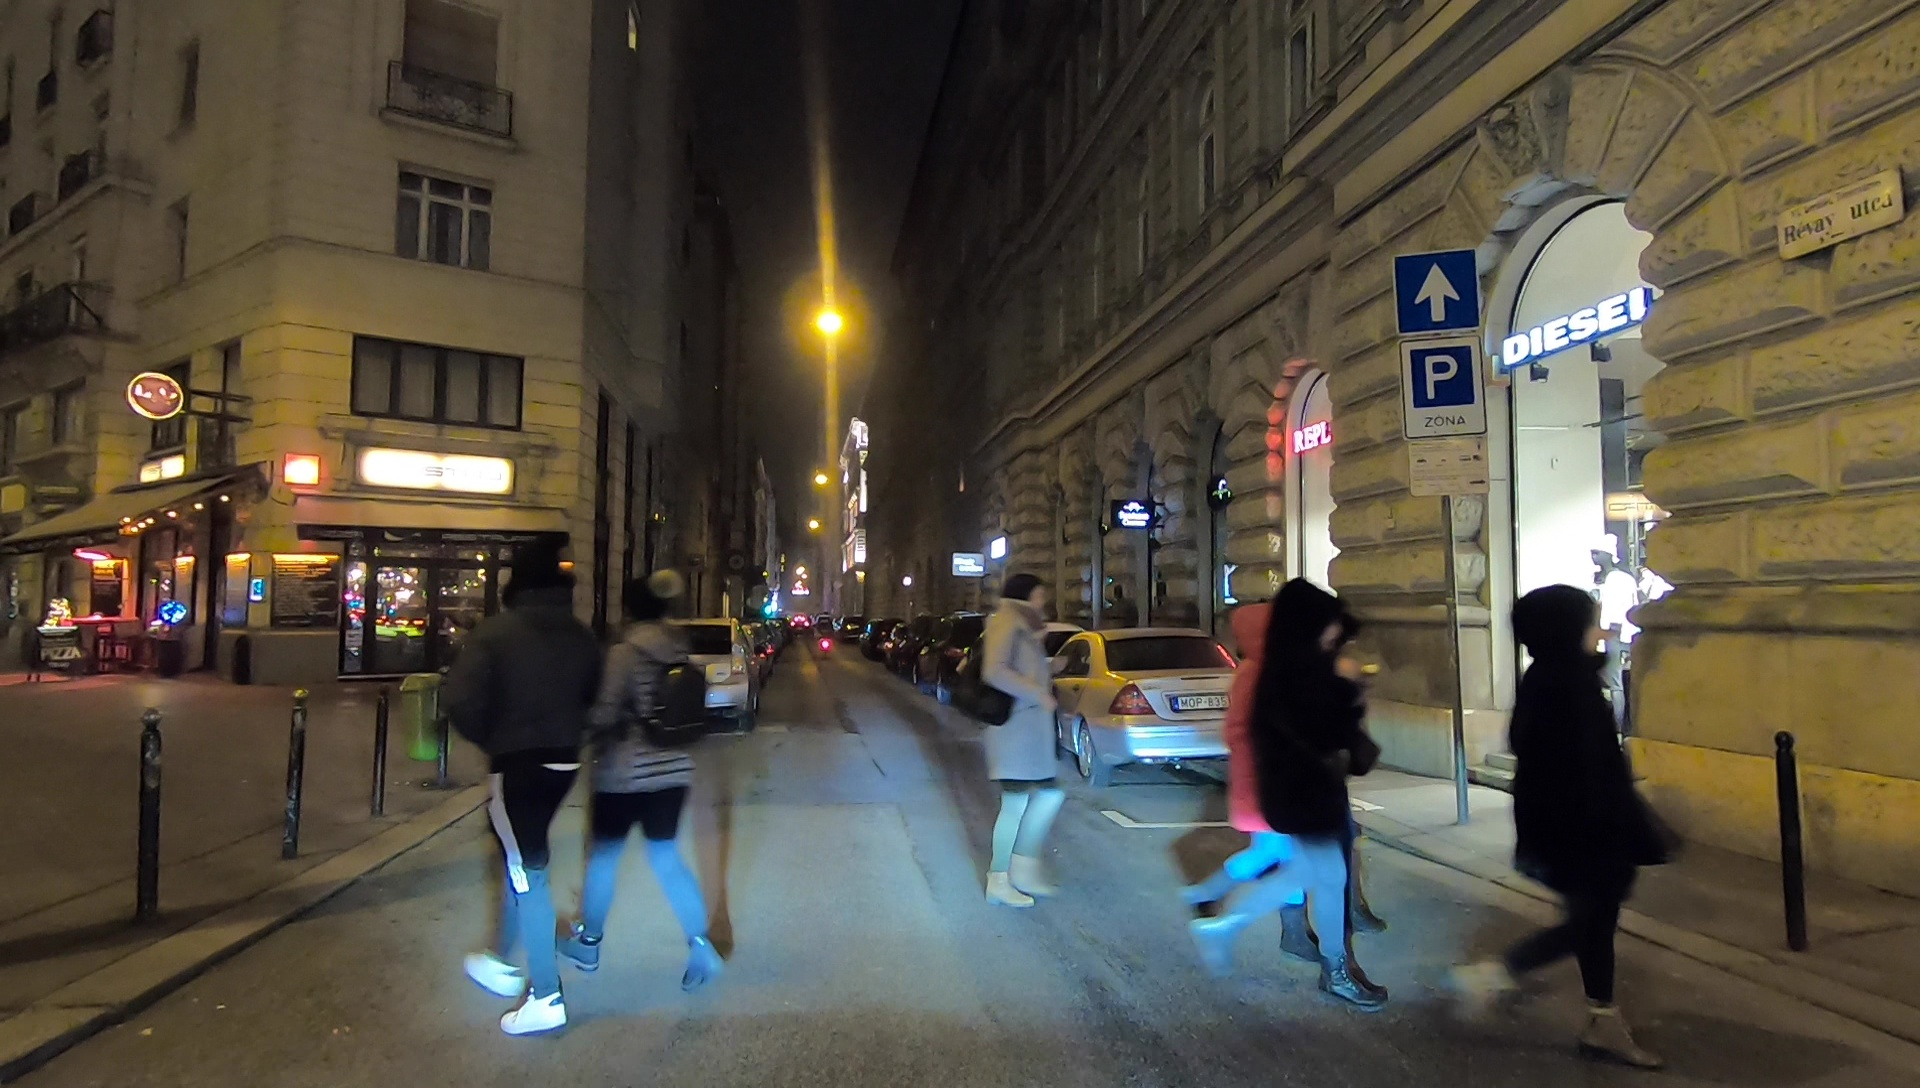person: (1454, 591, 1652, 1047), (573, 563, 743, 991), (458, 556, 586, 1034), (1262, 584, 1388, 1004), (1206, 600, 1343, 965), (951, 563, 1064, 908)
